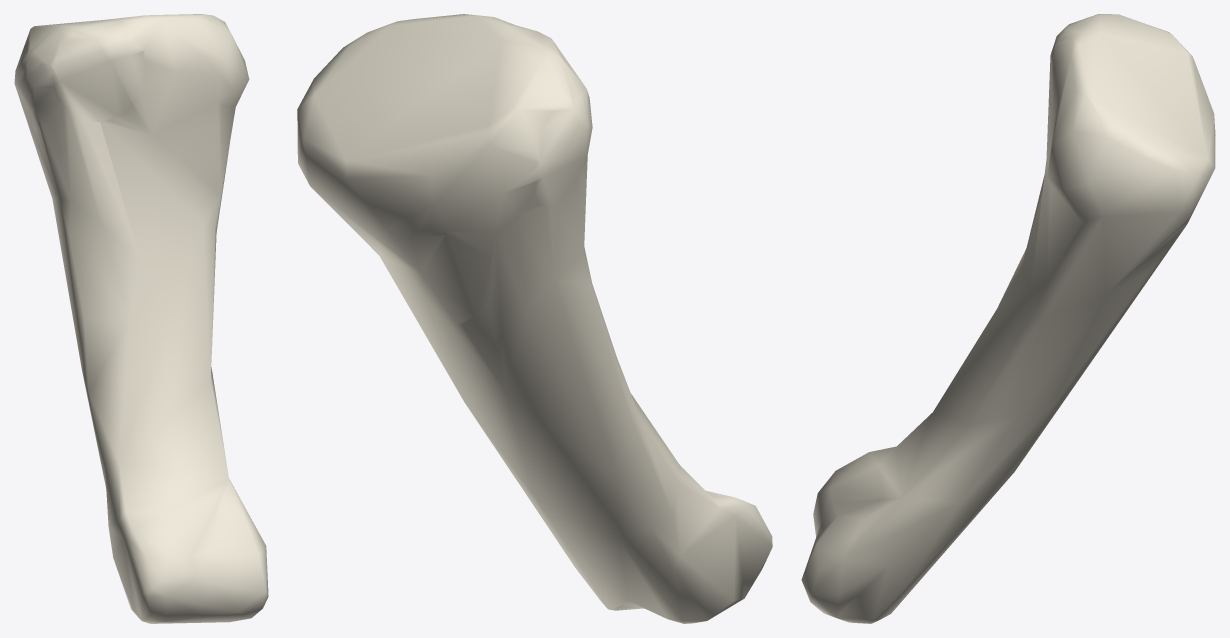
3 views of the same model, side by side, from view 1: azimuth 30°, elevation 25°; view 2: azimuth 150°, elevation 25°; view 3: azimuth 270°, elevation 25° (orthographic). The views are drawn at different scales.
Visible parts, largest first — view 1: ZA_e9effcce04142315; view 2: ZA_e9effcce04142315; view 3: ZA_e9effcce04142315.
Part boxes in pixels (x1=…): ZA_e9effcce04142315: x1=14, y1=14, x2=268, y2=623; ZA_e9effcce04142315: x1=297, y1=14, x2=772, y2=623; ZA_e9effcce04142315: x1=801, y1=14, x2=1215, y2=623.
Size of the model in its own units: 0.0148 by 0.0338 by 0.0216.
